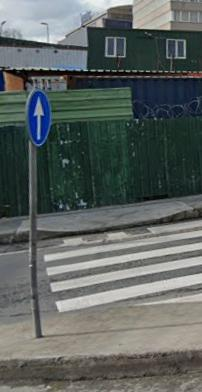forward: (29, 90, 51, 144)
